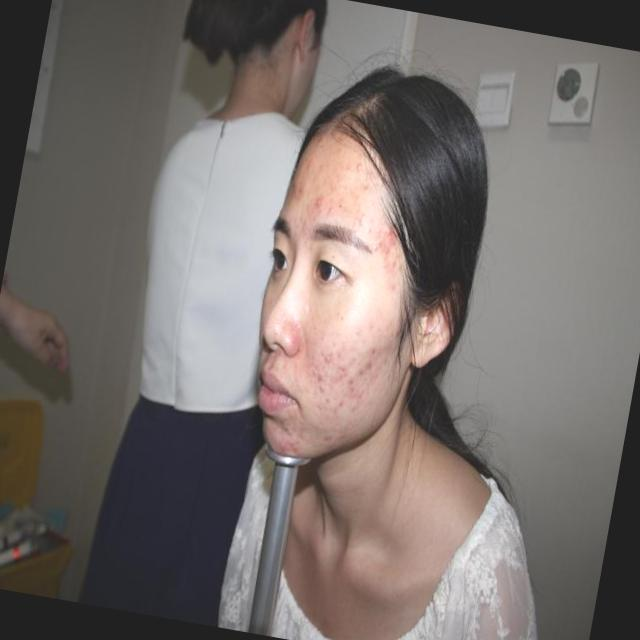acne: (352, 206, 377, 247), (332, 412, 356, 443), (383, 266, 404, 301), (334, 356, 356, 388), (356, 348, 374, 382), (306, 188, 326, 218), (360, 232, 383, 258), (386, 316, 408, 342), (300, 152, 318, 180), (283, 420, 302, 442), (312, 364, 328, 389), (362, 338, 380, 360), (379, 243, 394, 266), (291, 431, 310, 449), (294, 175, 308, 199), (383, 222, 396, 246), (316, 382, 332, 400), (346, 382, 359, 402), (336, 388, 346, 412), (320, 351, 334, 367), (280, 447, 292, 459), (322, 430, 329, 444)
